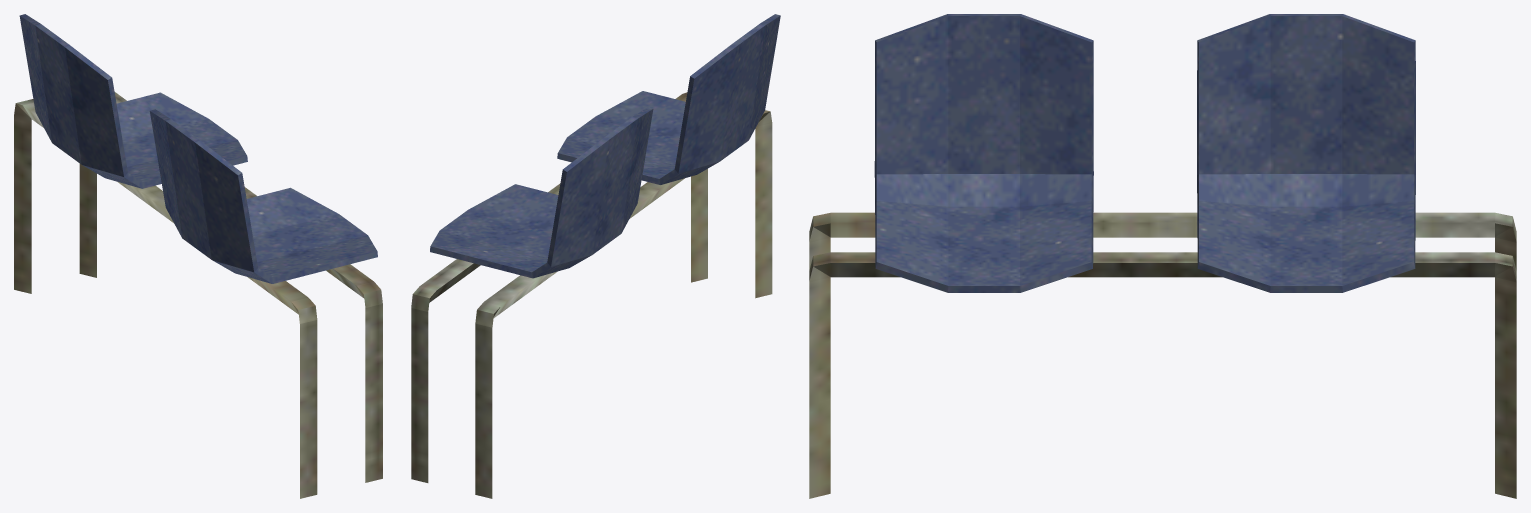
Rendered from Urban_BusstopTwoSeats_Model.fbx.
The picture shows the model from 3 angles, left to right: view 1: azimuth 30°, elevation 25°; view 2: azimuth 150°, elevation 25°; view 3: azimuth 270°, elevation 25°; orthographic projection. The views are drawn at different scales.
Visible parts, largest first — view 1: Urban_BusstopTwoSeats_Mesh; view 2: Urban_BusstopTwoSeats_Mesh; view 3: Urban_BusstopTwoSeats_Mesh.
Part boxes in pixels (left/top/right/bottom): Urban_BusstopTwoSeats_Mesh: left=14, top=14, right=382, bottom=498; Urban_BusstopTwoSeats_Mesh: left=411, top=14, right=780, bottom=498; Urban_BusstopTwoSeats_Mesh: left=809, top=14, right=1516, bottom=498.
Size of the model in its own units: 0.692 by 1.25 by 1.98.
